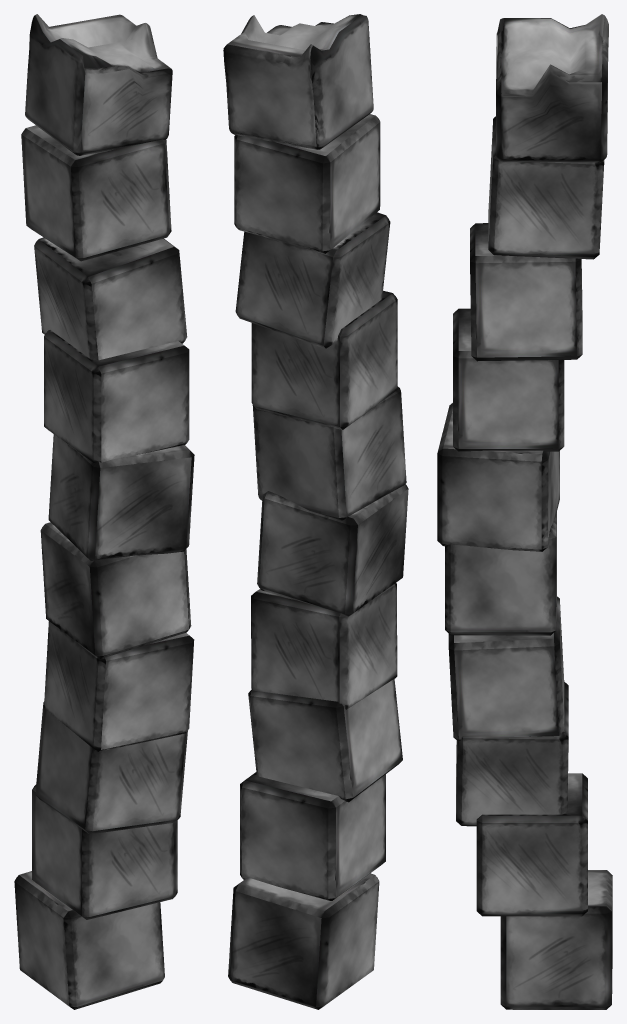
The model's file is column 1.fbx.
The picture shows the model from 3 angles, left to right: view 1: azimuth 30°, elevation 25°; view 2: azimuth 150°, elevation 25°; view 3: azimuth 270°, elevation 25°; orthographic projection.
Parts seen in each view (by area): view 1: block10; view 2: block10; view 3: block10.
Part boxes in pixels (left/top/right/bottom): block10: left=14, top=14, right=194, bottom=1009; block10: left=223, top=14, right=408, bottom=1009; block10: left=437, top=14, right=612, bottom=1009.
Size of the model in its own units: 116 by 957 by 157.
